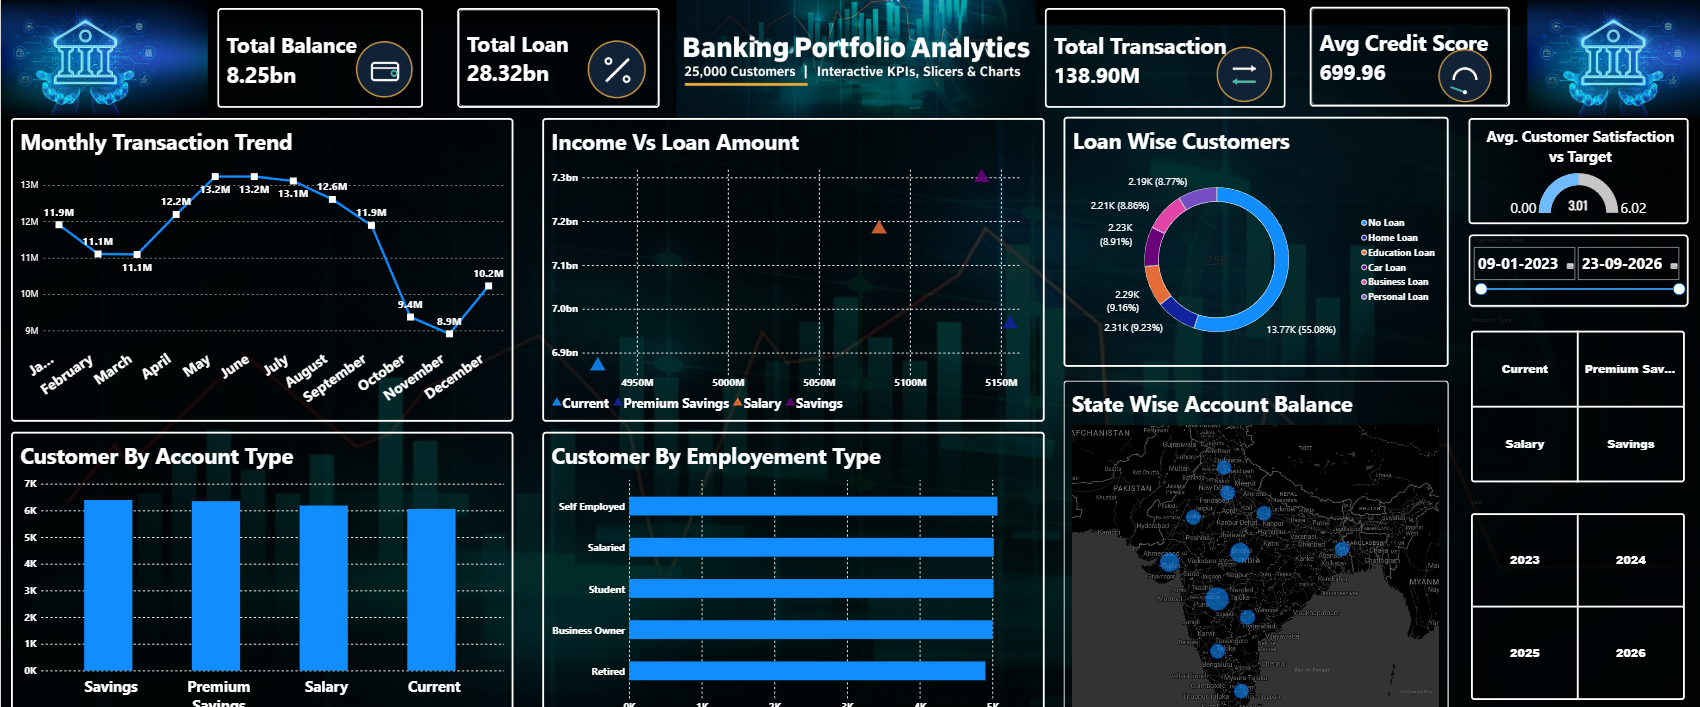

The dashboard page shown, as its layout file describes it:
{"tool":"powerbi","page":{"name":"Page 2","canvas":[3840,2160],"ordinal":1},"visuals":[{"type":"gauge","title":"Avg. Customer Satisfaction vs Target","fields":{"Y":["Avg(banking_powerbi_dataset_25000.Customer_Satisfaction)"]},"box":[3173,259.5,475.7,229.7],"z":0},{"type":"columnChart","title":"Customer By Account Type","fields":{"Category":["banking_powerbi_dataset_25000.Account_Type"],"Y":["CountNonNull(banking_powerbi_dataset_25000.Customer_ID)"]},"box":[21.6,937.8,1086.5,635.1],"z":1000},{"type":"lineChart","title":"Monthly Transaction Trend","fields":{"Category":["banking_powerbi_dataset_25000.Transaction_Date.Variation.Date Hierarchy.Month"],"Y":["Sum(banking_powerbi_dataset_25000.Transaction_Amount)"]},"box":[21.6,259.5,1086.5,656.8],"z":2000},{"type":"clusteredBarChart","title":"Customer By Employement Type","fields":{"Category":["banking_powerbi_dataset_25000.Employment_Type"],"Y":["CountNonNull(banking_powerbi_dataset_25000.Customer_ID)"]},"box":[1170.3,937.8,1086.1,633.3],"z":3000},{"type":"scatterChart","title":"Income Vs Loan Amount","fields":{"Series":["banking_powerbi_dataset_25000.Account_Type"],"X":["Sum(banking_powerbi_dataset_25000.Annual_Income)"],"Y":["Sum(banking_powerbi_dataset_25000.Loan_Amount)"]},"box":[1170.3,259.5,1086.5,656.8],"z":4000},{"type":"donutChart","title":"Loan Wise Customers","fields":{"Category":["banking_powerbi_dataset_25000.Loan_Type"],"Y":["CountNonNull(banking_powerbi_dataset_25000.Customer_ID)"]},"box":[2297.3,256.8,832.4,540.5],"z":5000},{"type":"map","title":"State Wise Account Balance","fields":{"Category":["banking_powerbi_dataset_25000.State"],"Size":["Sum(banking_powerbi_dataset_25000.Account_Balance)"]},"box":[2297.3,827,832.4,783.8],"z":6000},{"type":"image","box":[0,0,447.2,255.6],"z":7000},{"type":"image","box":[3237.8,0,581.1,256.8],"z":8000},{"type":"cardVisual","fields":{"Data":["banking_powerbi_dataset_25000.Total_Account_Balance"]},"box":[467.6,21.6,445.9,216.2],"z":9000},{"type":"cardVisual","fields":{"Data":["banking_powerbi_dataset_25000.Total_Loan_Distributed"]},"box":[986.5,21.6,437.8,216.2],"z":10000},{"type":"cardVisual","fields":{"Data":["banking_powerbi_dataset_25000.Total_Transaction_Amount"]},"box":[2256.8,21.6,521.6,216.2],"z":11000},{"type":"slicer","fields":{"Values":["banking_powerbi_dataset_25000.Transaction_Date"]},"box":[3173,510.8,475.7,156.8],"z":12000},{"type":"advancedSlicerVisual","fields":{"Values":["banking_powerbi_dataset_25000.Account_Type"]},"box":[3178.4,686.5,462.2,362.2],"z":13000},{"type":"image","box":[1132.4,0,1435.1,259.5],"z":14000},{"type":"cardVisual","fields":{"Data":["banking_powerbi_dataset_25000.Avg Credit Score"]},"box":[2829.7,18.9,432.4,216.2],"z":15000},{"type":"advancedSlicerVisual","fields":{"Values":["banking_powerbi_dataset_25000.year"]},"box":[3178.4,1081.1,462.2,437.8],"z":15002},{"type":"image","box":[764.9,89.2,127,129.7],"z":15003},{"type":"image","box":[1237.8,89.2,186.5,129.7],"z":15004},{"type":"image","box":[2616.2,102.7,143.2,124.3],"z":15005},{"type":"image","box":[3091.9,108.1,145.9,118.9],"z":15006}]}

Visuals, with their boxes on the page's 3840x2160 design canvas (x1, y1, x2, y2). These are canvas units, not pixel positions in the 1700x707 screenshot, which may show the page scaled, cropped or inside an application window:
"Avg. Customer Satisfaction vs Target" gauge: x1=3173, y1=260, x2=3649, y2=489
"Customer By Account Type" columnChart: x1=22, y1=938, x2=1108, y2=1573
"Monthly Transaction Trend" lineChart: x1=22, y1=260, x2=1108, y2=916
"Customer By Employement Type" clusteredBarChart: x1=1170, y1=938, x2=2256, y2=1571
"Income Vs Loan Amount" scatterChart: x1=1170, y1=260, x2=2257, y2=916
"Loan Wise Customers" donutChart: x1=2297, y1=257, x2=3130, y2=797
"State Wise Account Balance" map: x1=2297, y1=827, x2=3130, y2=1611
image: x1=0, y1=0, x2=447, y2=256
image: x1=3238, y1=0, x2=3819, y2=257
cardVisual - banking_powerbi_dataset_25000.Total_Account_Balance: x1=468, y1=22, x2=914, y2=238
cardVisual - banking_powerbi_dataset_25000.Total_Loan_Distributed: x1=986, y1=22, x2=1424, y2=238
cardVisual - banking_powerbi_dataset_25000.Total_Transaction_Amount: x1=2257, y1=22, x2=2778, y2=238
slicer - banking_powerbi_dataset_25000.Transaction_Date: x1=3173, y1=511, x2=3649, y2=668
advancedSlicerVisual - banking_powerbi_dataset_25000.Account_Type: x1=3178, y1=686, x2=3641, y2=1049
image: x1=1132, y1=0, x2=2568, y2=260
cardVisual - banking_powerbi_dataset_25000.Avg Credit Score: x1=2830, y1=19, x2=3262, y2=235
advancedSlicerVisual - banking_powerbi_dataset_25000.year: x1=3178, y1=1081, x2=3641, y2=1519
image: x1=765, y1=89, x2=892, y2=219
image: x1=1238, y1=89, x2=1424, y2=219
image: x1=2616, y1=103, x2=2759, y2=227
image: x1=3092, y1=108, x2=3238, y2=227
